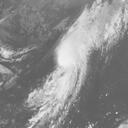cyclone: (54, 33, 88, 69)
